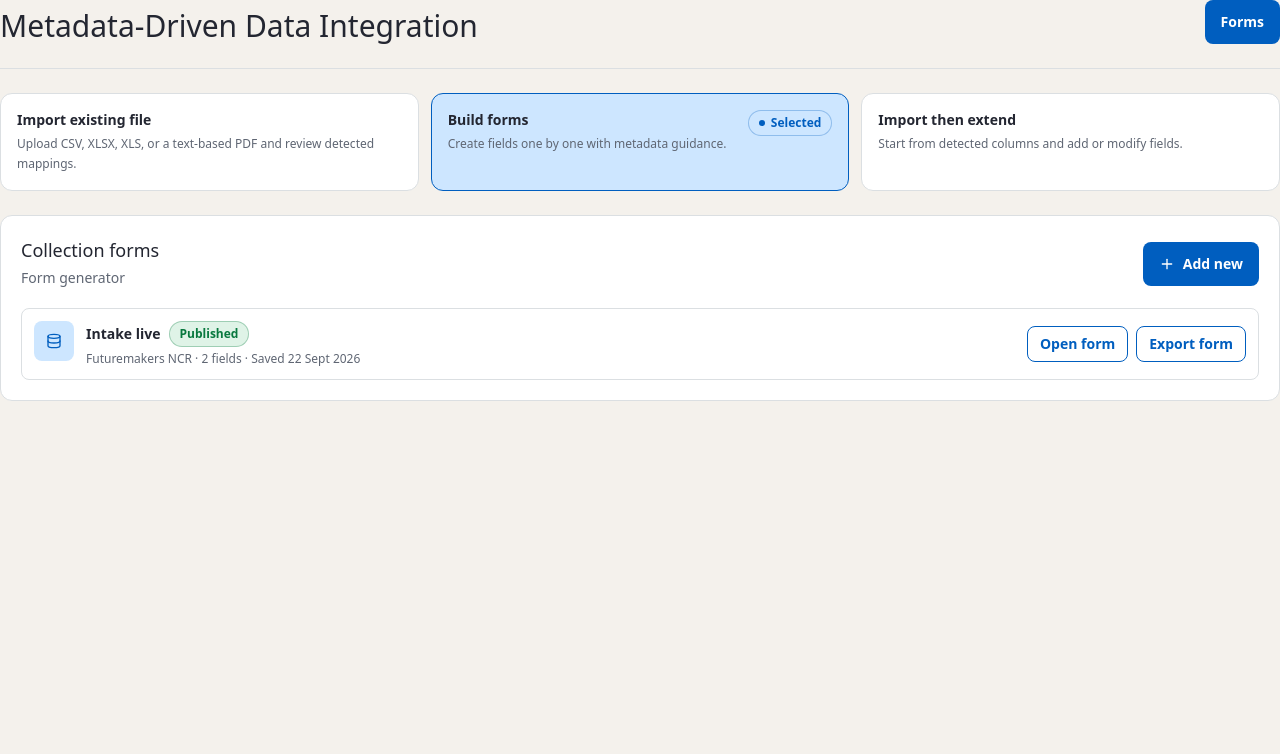
Test case: collection saved forms list › opens a published form read-only with a notice
Click the button "Open form".
click(1078, 344)  # box [1027,326,1128,362]
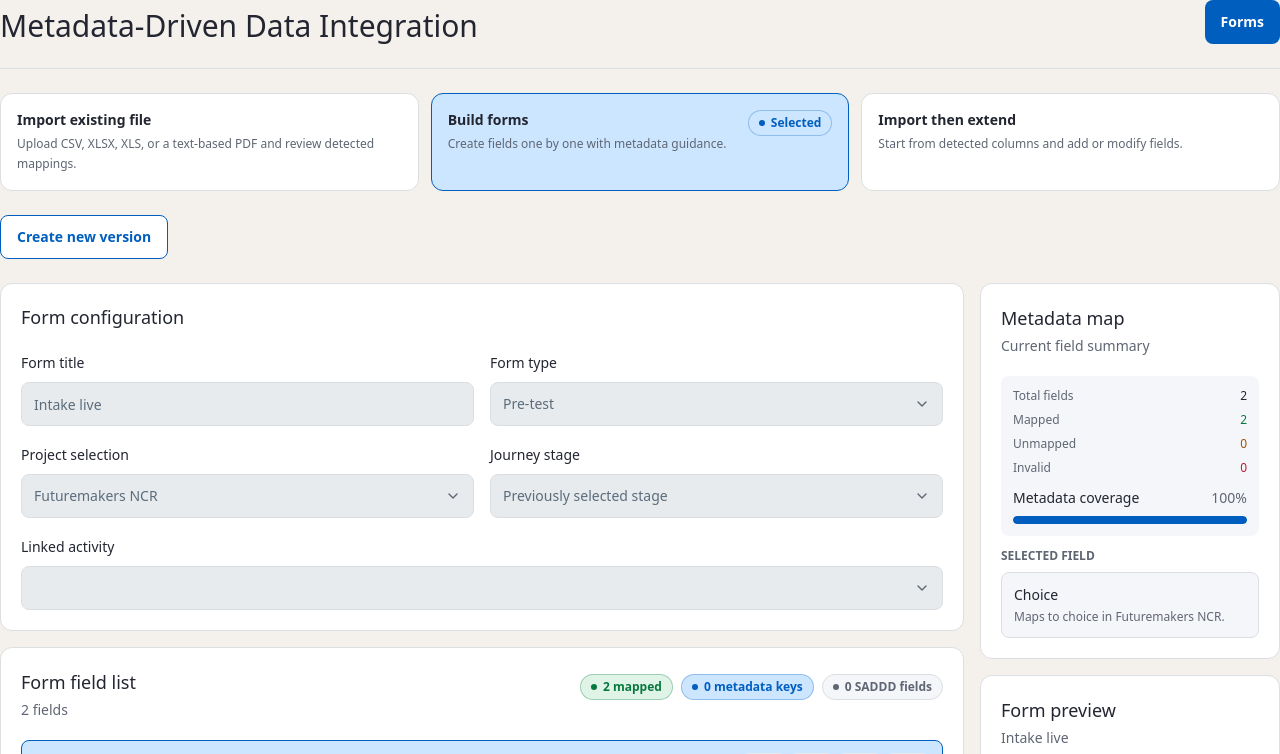
Result: the field labelled "Form title" holds "Intake live" at [21,382,474,426]
